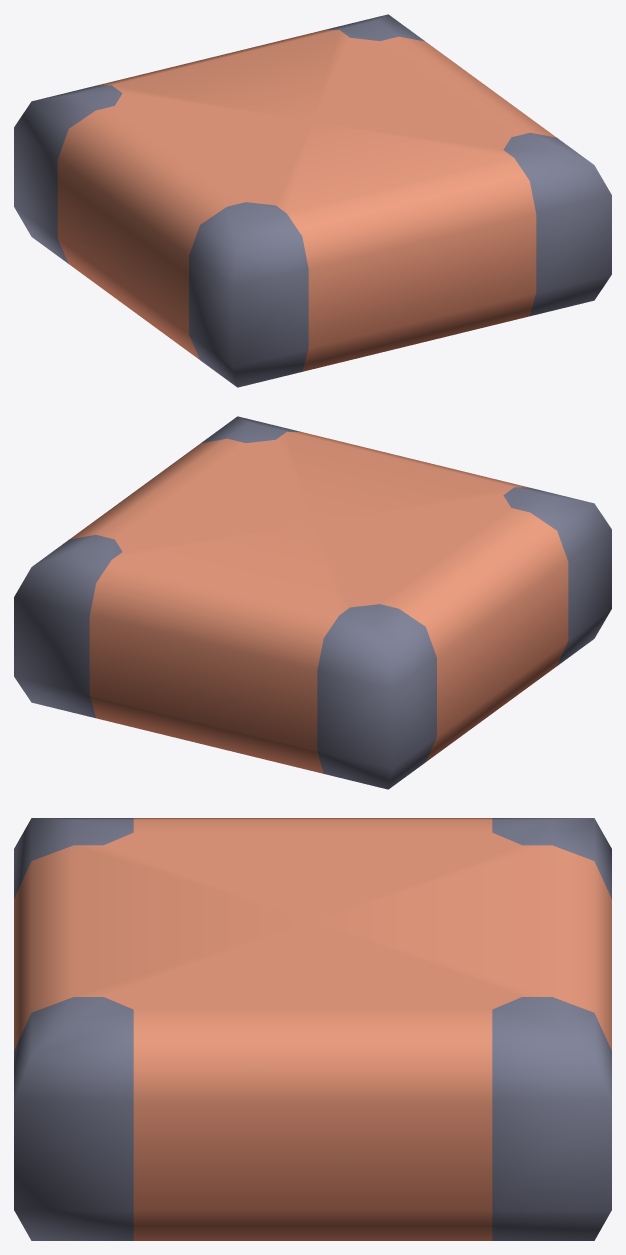
Rendered from conveyor-stripe-cross.obj.
The picture shows the model from 3 angles, top to bottom: view 1: azimuth 30°, elevation 25°; view 2: azimuth 150°, elevation 25°; view 3: azimuth 270°, elevation 25°; orthographic projection. The views are drawn at different scales.
Parts seen in each view (by area): view 1: conveyor-stripe-cross; view 2: conveyor-stripe-cross; view 3: conveyor-stripe-cross.
Boxes of the visible parts, box(x1,y1,x2,y2) form: conveyor-stripe-cross: box(14, 14, 611, 387); conveyor-stripe-cross: box(14, 416, 611, 789); conveyor-stripe-cross: box(14, 818, 611, 1240).
Bounding box in the file's own units: 1 × 0.4 × 1.
